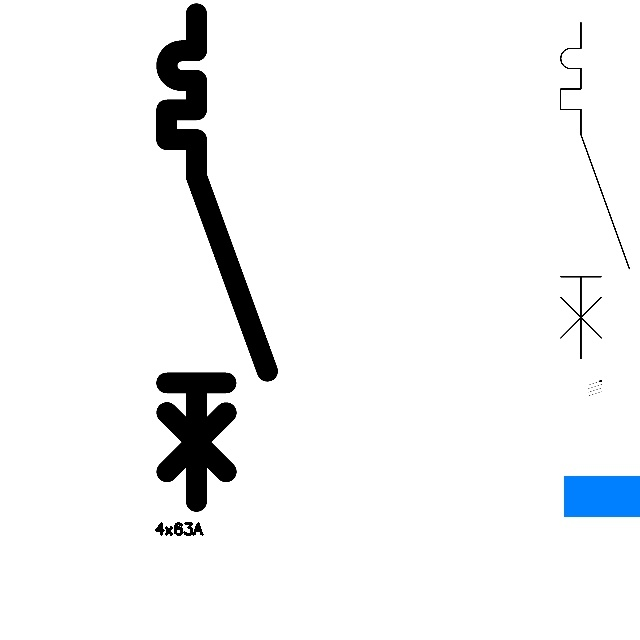interruptor_termomagnetico: (154, 1, 279, 514), (552, 14, 638, 367)
